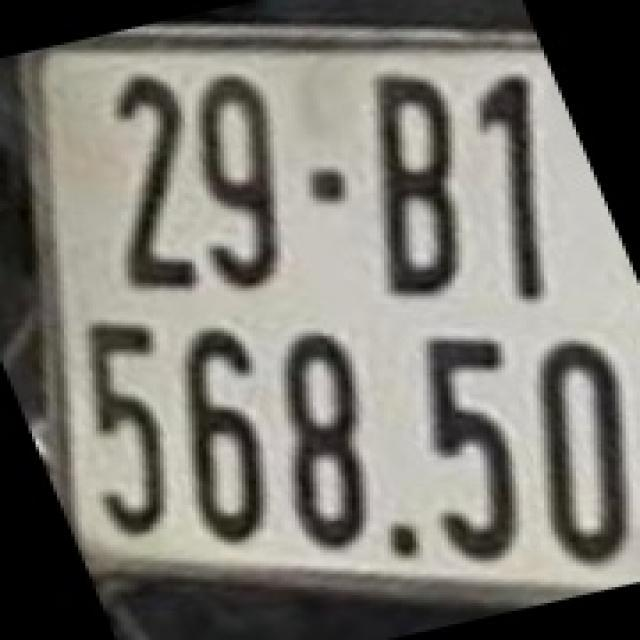0: (540, 344, 630, 560)
1: (476, 74, 552, 304)
2: (118, 76, 196, 288)
5: (427, 338, 522, 564), (85, 326, 167, 534)
6: (188, 330, 264, 548)
8: (288, 333, 366, 553)
9: (199, 76, 281, 288)
B: (373, 77, 462, 299)
